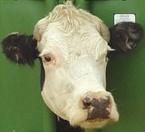muzzles: (73, 91, 121, 129)
